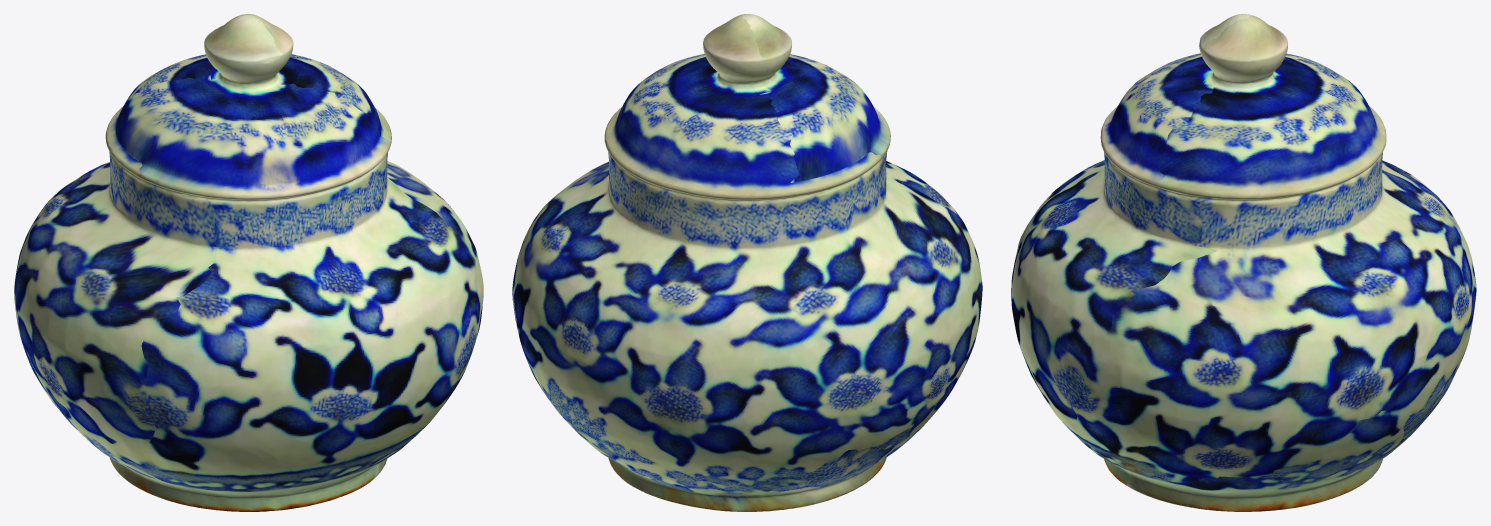
File: paint-it.glb
3 renders of one model, left to right at view 1: azimuth 30°, elevation 25°; view 2: azimuth 150°, elevation 25°; view 3: azimuth 270°, elevation 25°, orthographic.
Visible parts, largest first — view 1: mesh; view 2: mesh; view 3: mesh.
Boxes of the visible parts, x1=… form: mesh: x1=14, y1=14, x2=483, y2=511; mesh: x1=512, y1=14, x2=982, y2=511; mesh: x1=1011, y1=14, x2=1476, y2=511.
Bounding box in the file's own units: 1.94 × 2 × 1.93.
1 material, 1 textured.
